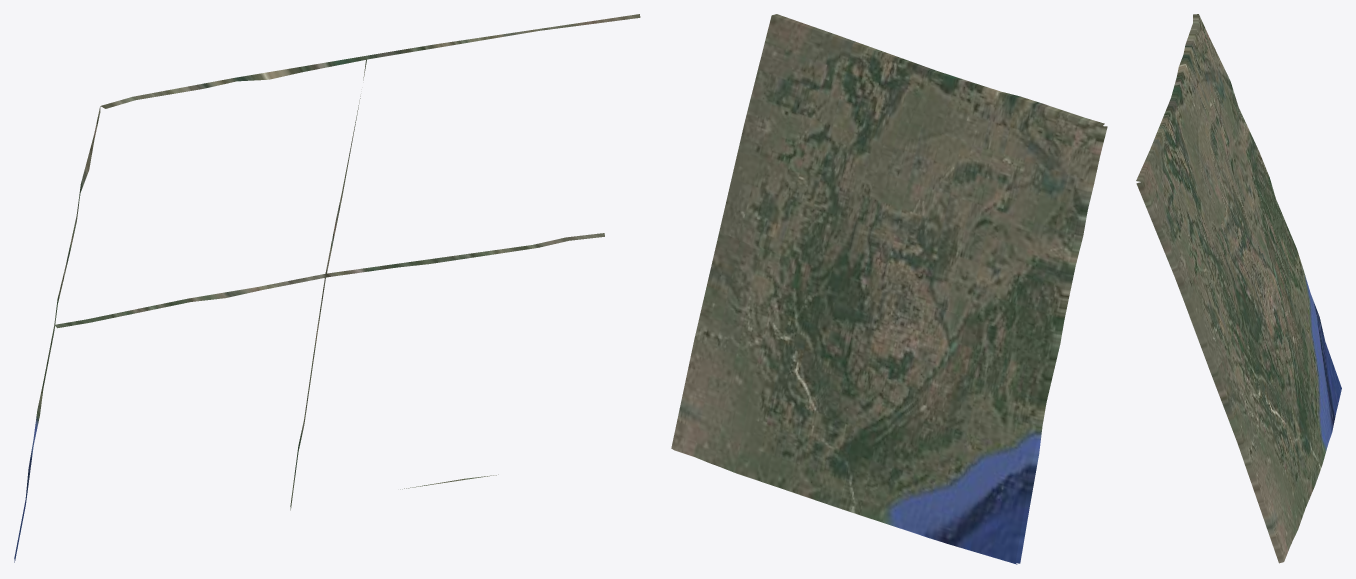
The picture shows the model from 3 angles, left to right: view 1: azimuth 30°, elevation 25°; view 2: azimuth 150°, elevation 25°; view 3: azimuth 270°, elevation 25°; orthographic projection. The views are drawn at different scales.
Bounding box in the file's own units: 621512 × 596344 × 297694.
Materials: 1 (1 with a texture image).
